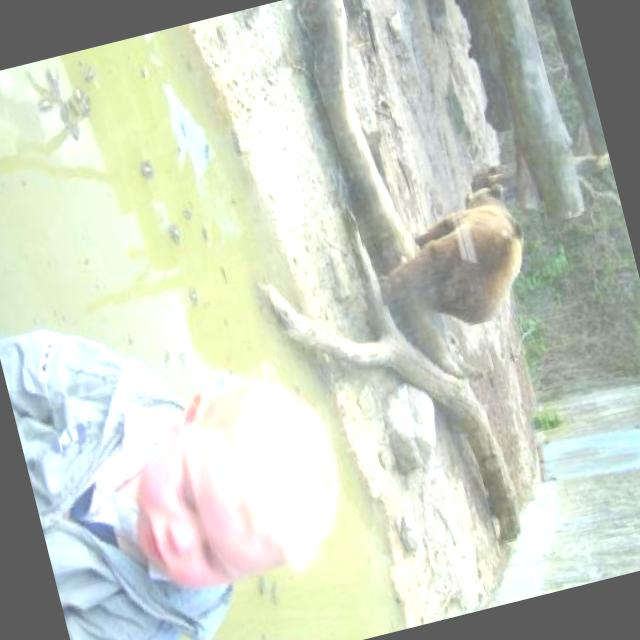Person: (0, 269, 375, 640)
